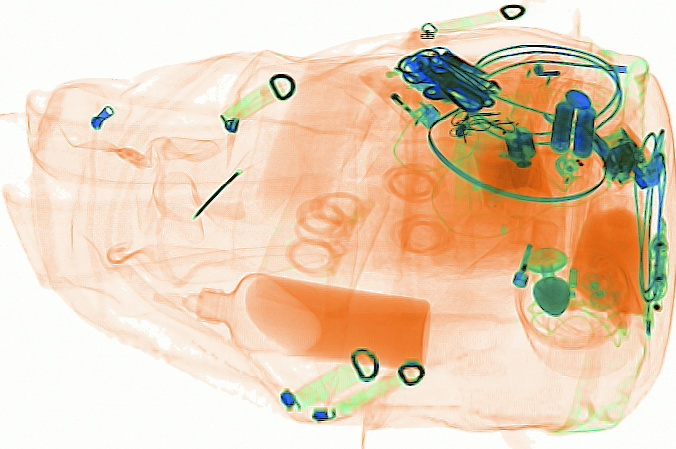lighter: (356, 61, 442, 131)
